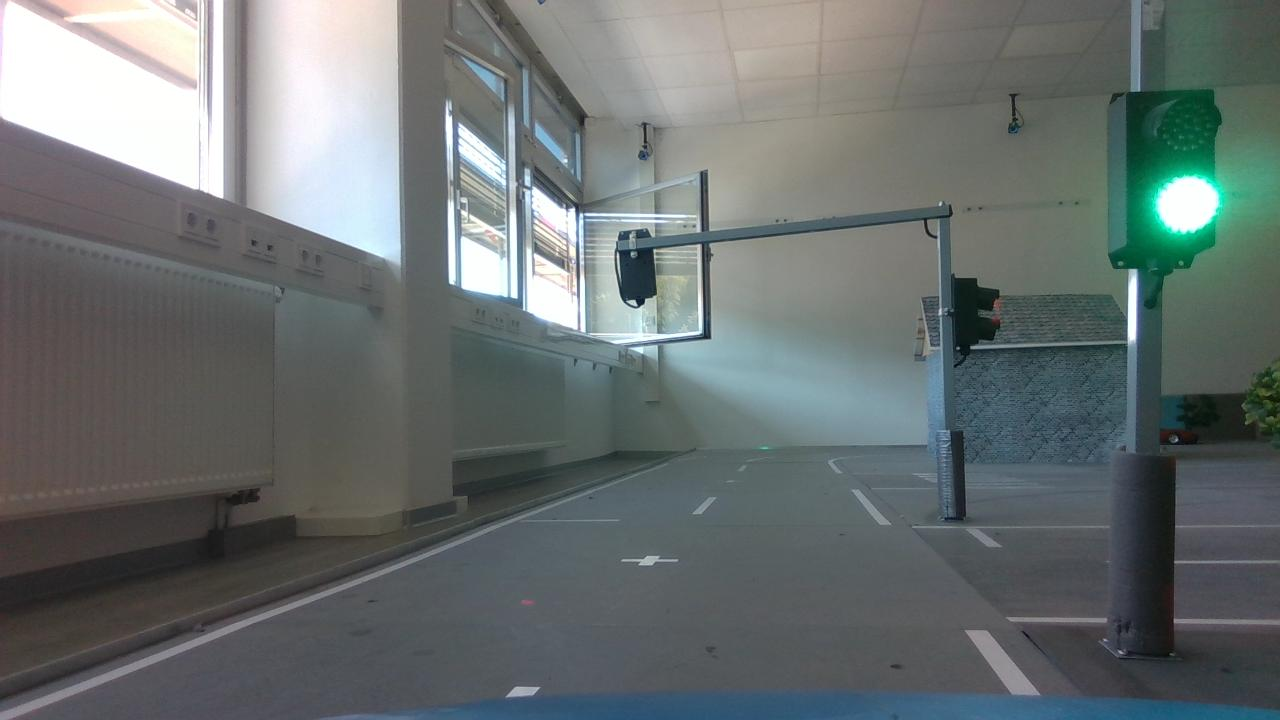traffic_light_green: (1086, 77, 1239, 287)
